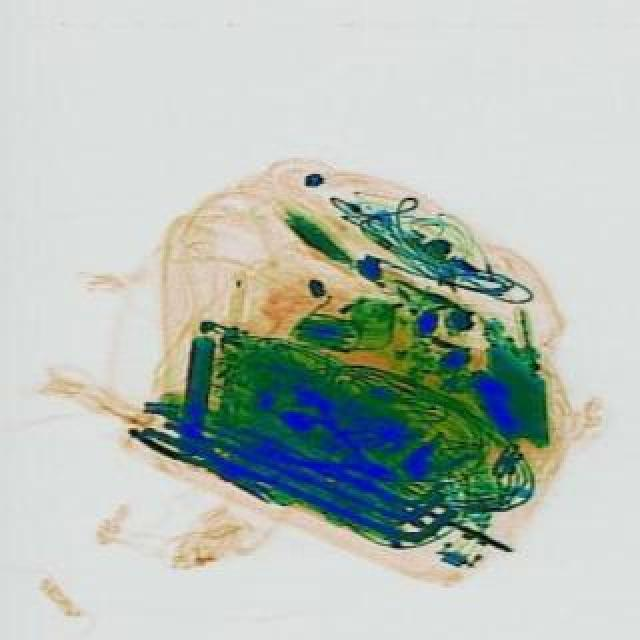wrench: (122, 400, 282, 512), (252, 398, 406, 508)
